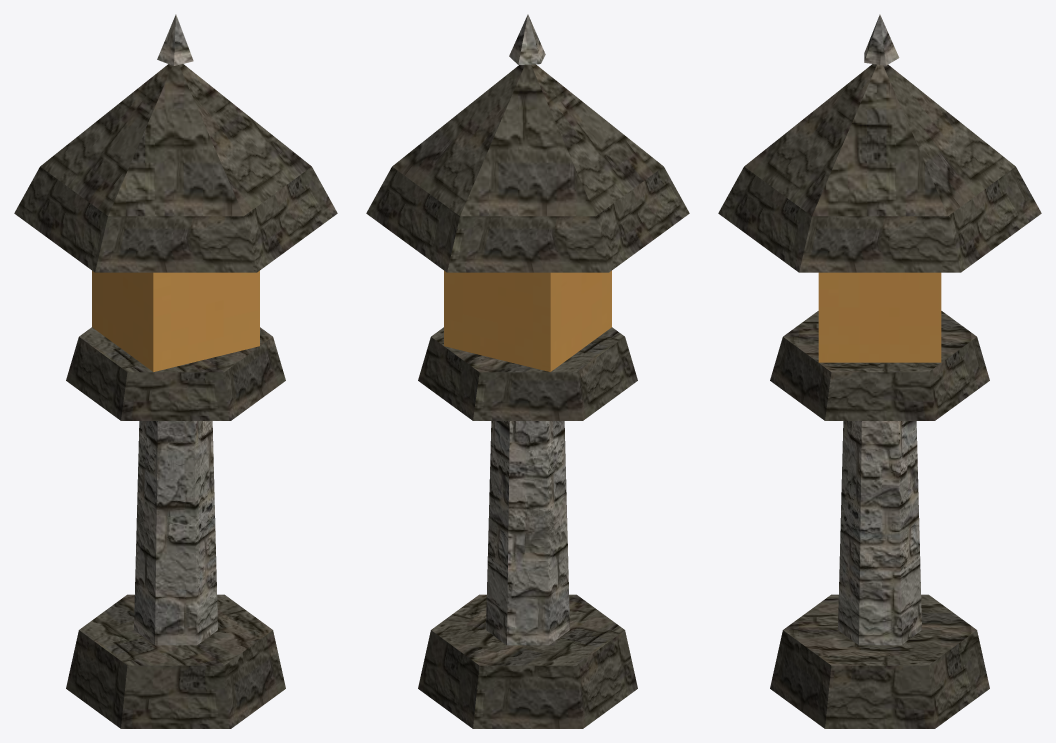
Rendered from stone_lantern_01.glb.
The picture shows the model from 3 angles, left to right: view 1: azimuth 30°, elevation 25°; view 2: azimuth 150°, elevation 25°; view 3: azimuth 270°, elevation 25°; orthographic projection.
Parts seen in each view (by area): view 1: stone_lantern_01; view 2: stone_lantern_01; view 3: stone_lantern_01.
Boxes of the visible parts, <box> form: stone_lantern_01: <box>14,14,337,728</box>; stone_lantern_01: <box>366,14,689,728</box>; stone_lantern_01: <box>718,14,1041,728</box>.
Size of the model in its own units: 0.866 by 2.3 by 1.
Materials: 3 (3 with a texture image).
